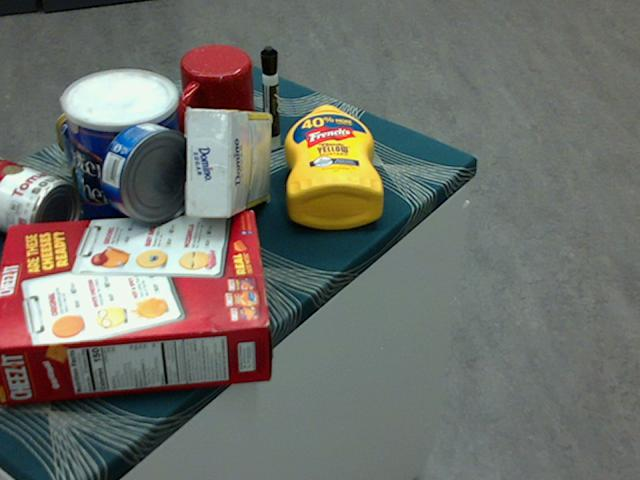cracker_box: (0, 210, 271, 403)
large_marker: (261, 45, 279, 150)
master_chef_can: (62, 70, 185, 251)
mug: (174, 45, 259, 143)
mustard_bottle: (285, 103, 385, 228)
potted_meat_can: (56, 101, 167, 192)
sugar_box: (186, 109, 269, 219)
tomato_soup_can: (0, 154, 80, 247)
tuna_fish_can: (99, 121, 200, 224)
